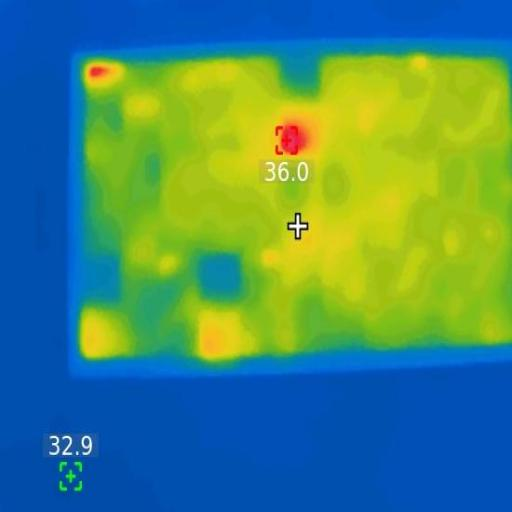hotspot: (282, 122, 308, 155), (88, 62, 113, 82)
